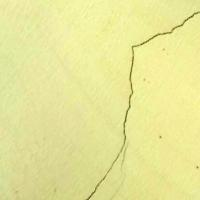crack: (83, 8, 199, 199)
